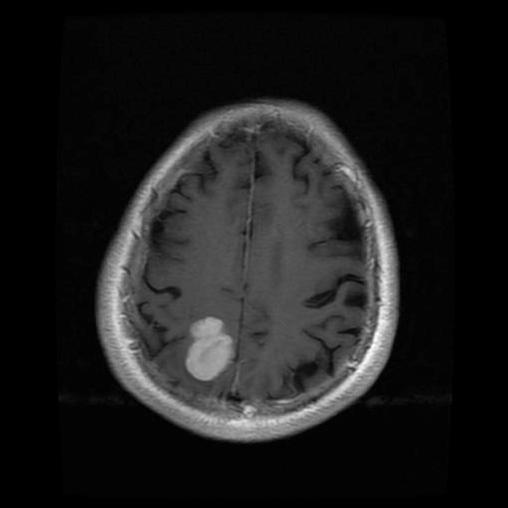Tumour-Pituitary: (163, 313, 249, 396)
